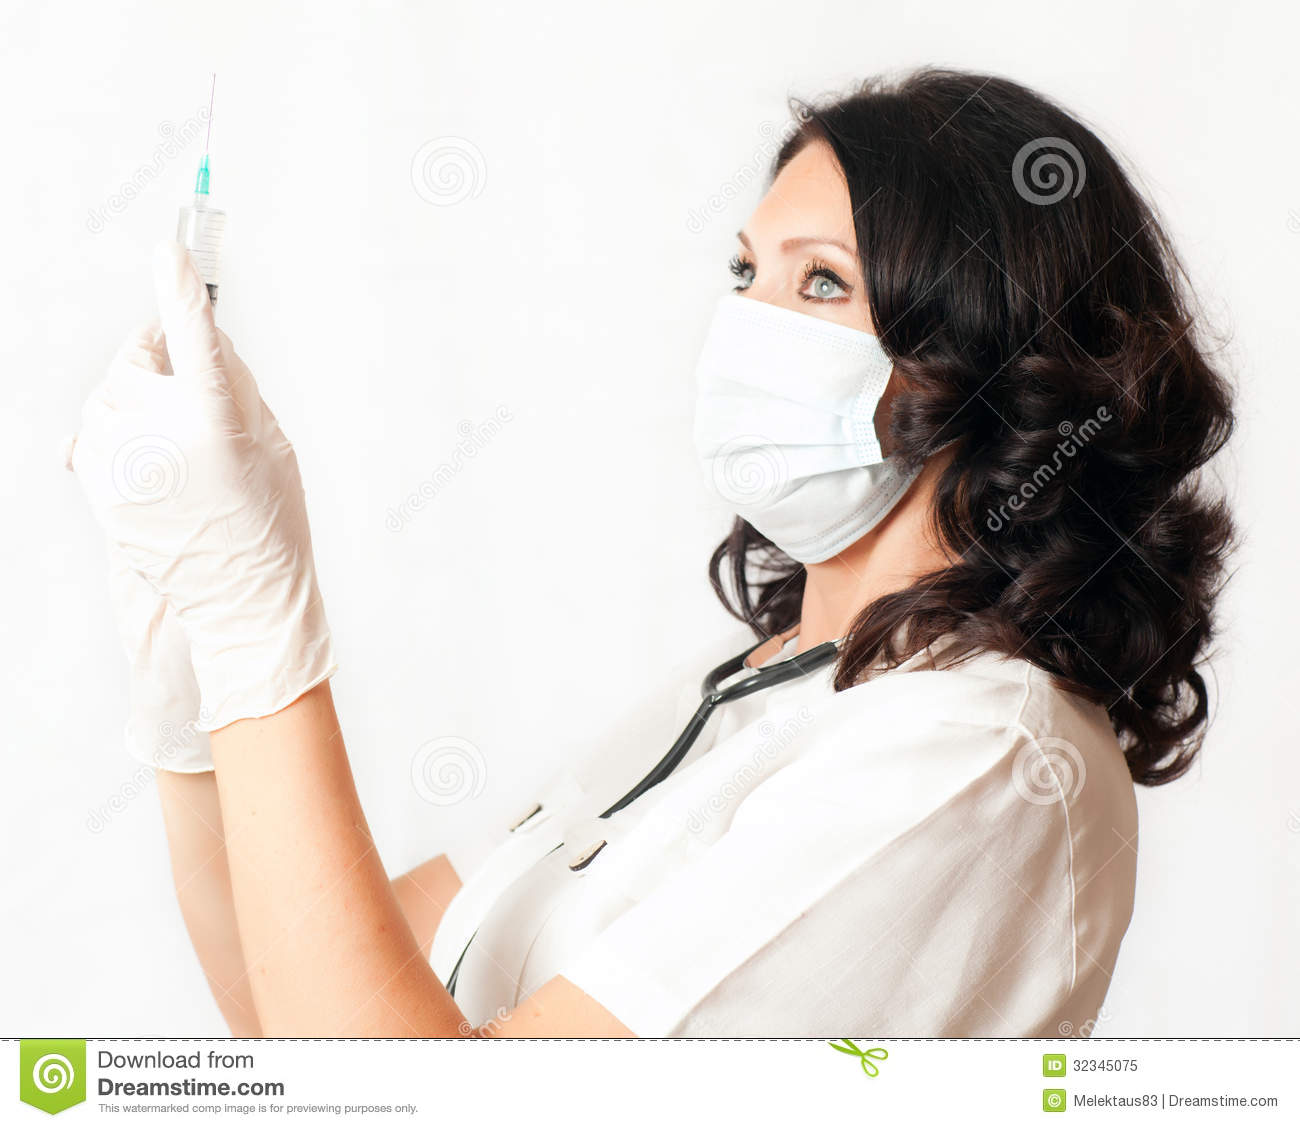mask: (658, 292, 922, 550)
